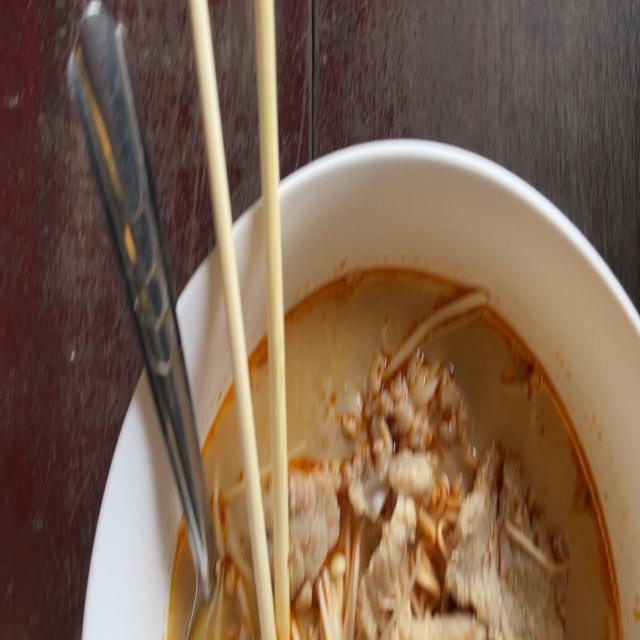noodle: (160, 247, 640, 640)
